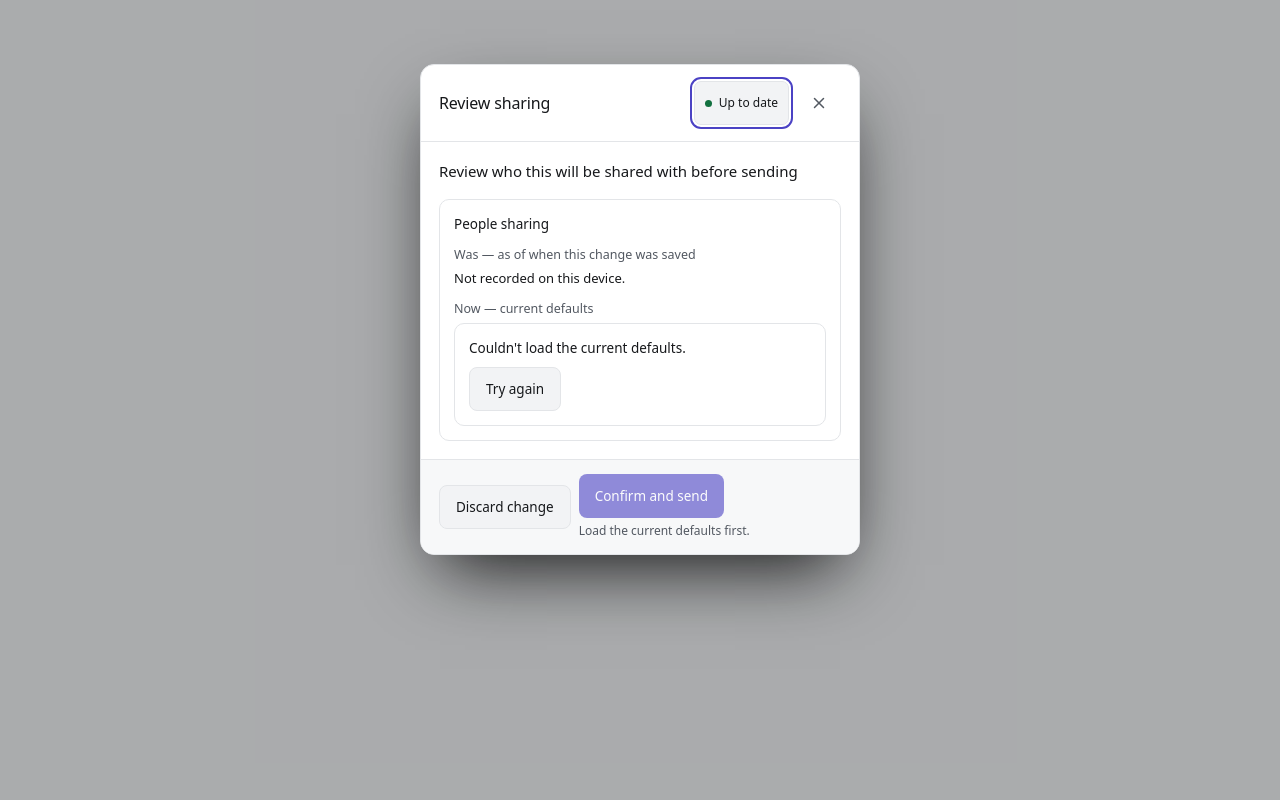
Test: R7: 'Now' is the review's OWN read, asked for after it opened › MU-S49: its own read failing beside an older success is a failure the person can retry (never an endless loading), and Retry asks again
Expected: the button "Confirm and send" is disabled, [579,474,724,518]
Click the button "Try again" at (515, 389), box [469,367,561,411]
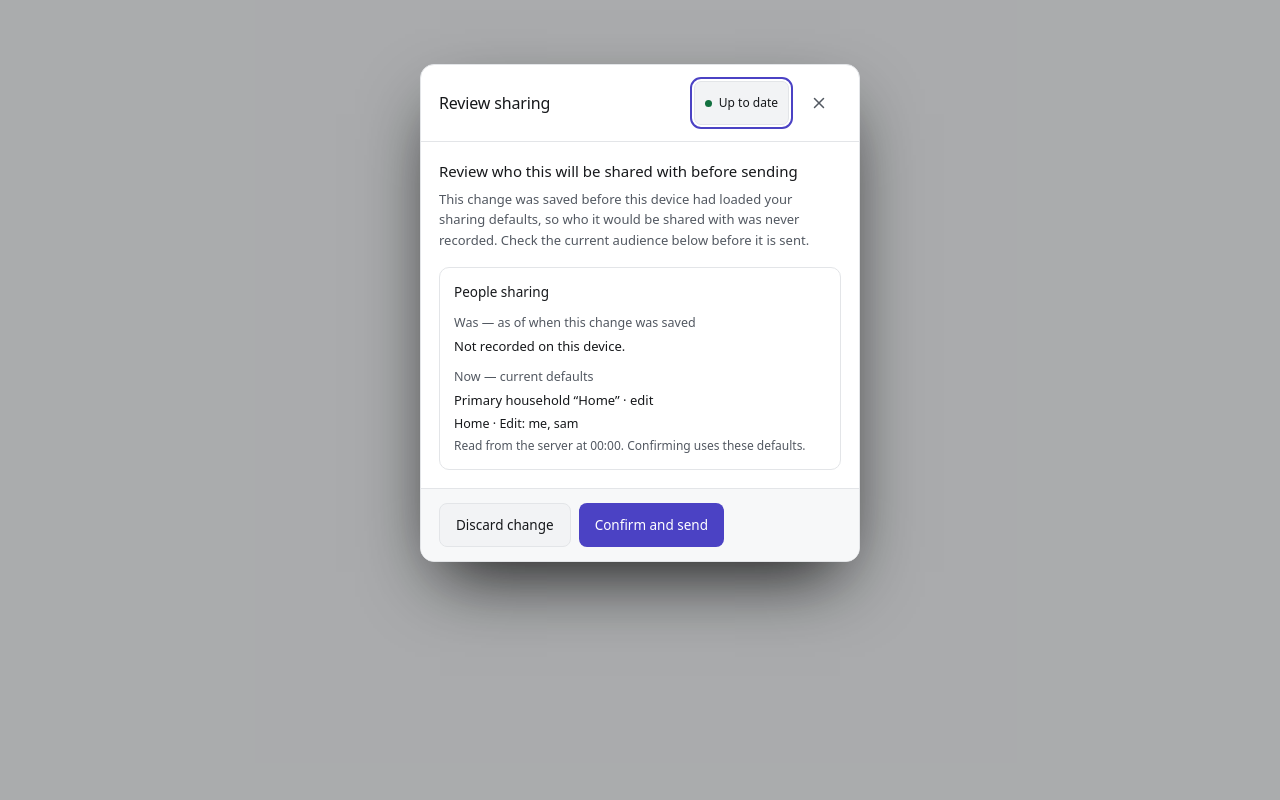
Result: the button "Confirm and send" is enabled at [579,503,724,547]
